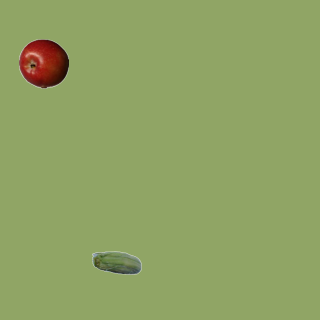Apple Braeburn: (18, 38, 68, 88)
Corn Husk: (91, 239, 141, 289)
